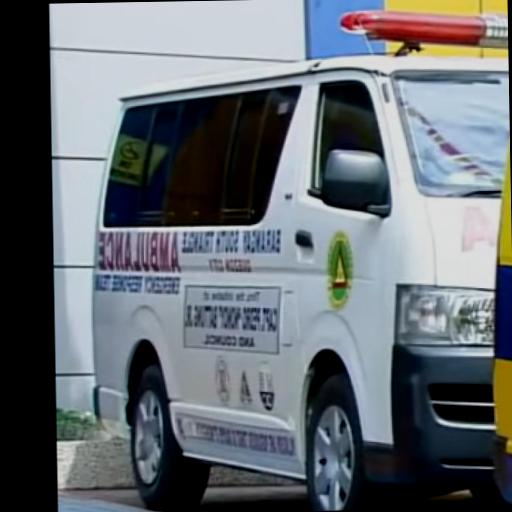Police car: (82, 9, 512, 512)
